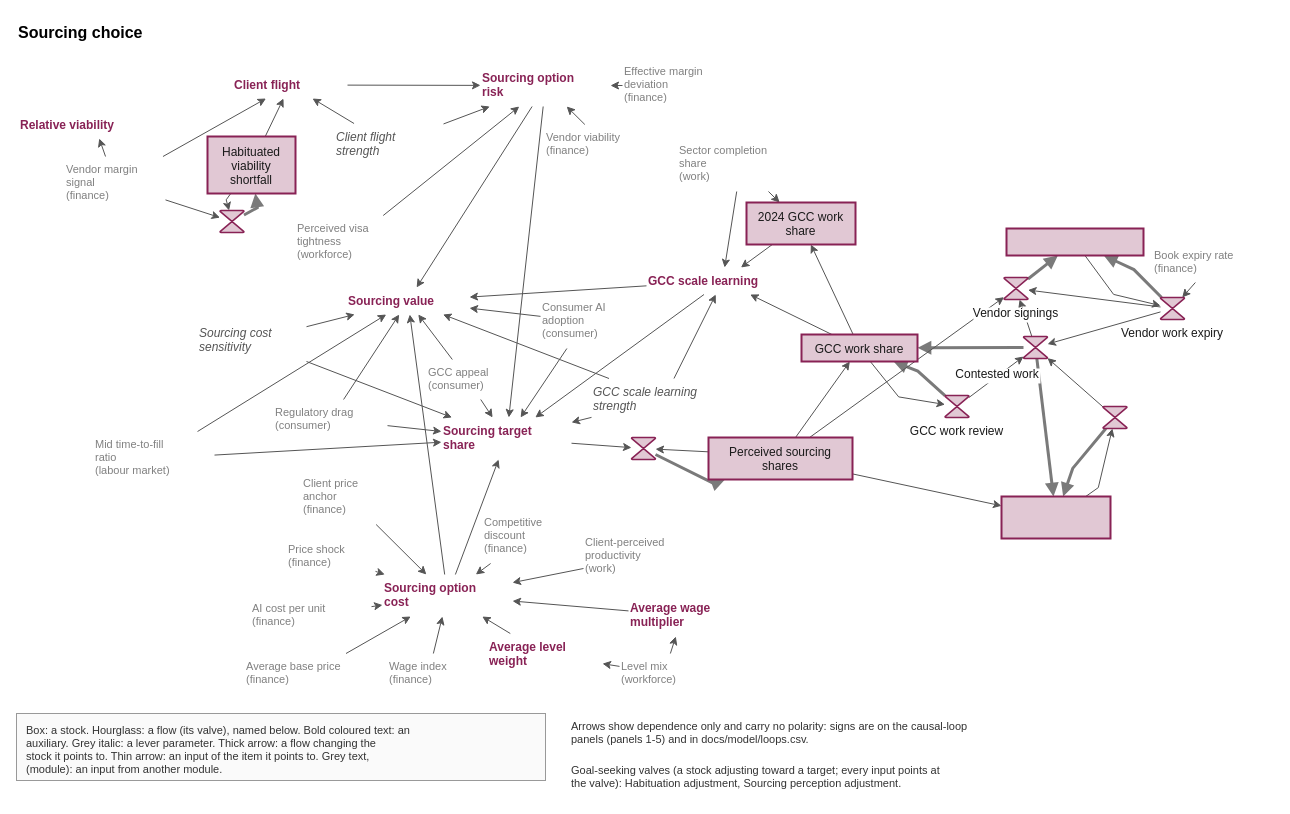
This 1290x814 diagram has some shape labels left out. The shapes that lost their labels are listed below. From the top down, each one's centre as x and y in pixels, then its label:
At pixel 231 221: "Habituation adjustment".
At pixel 1074 241: "Vendor work share".
At pixel 1114 417: "In-house work review".
At pixel 643 448: "Sourcing perception adjustment".
At pixel 1055 517: "In-house work share".
